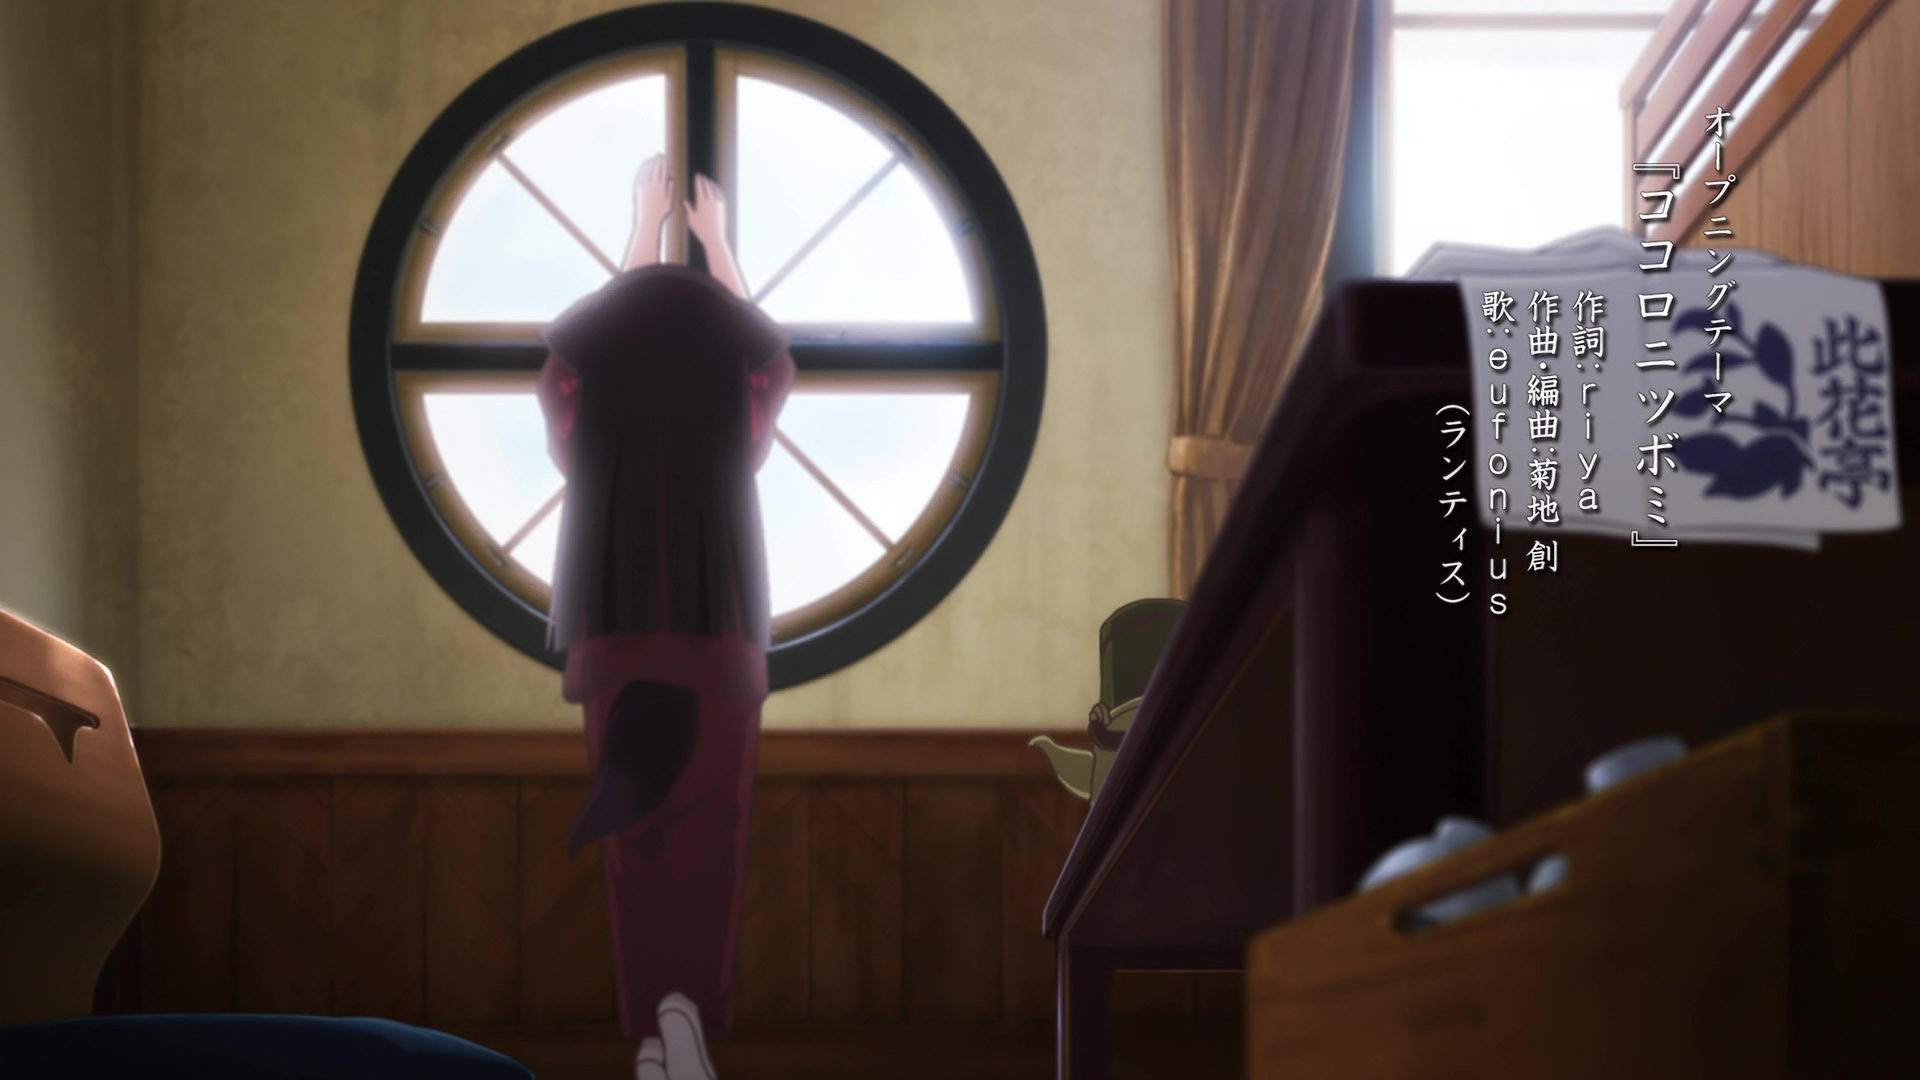樱: (533, 149, 799, 1080)
